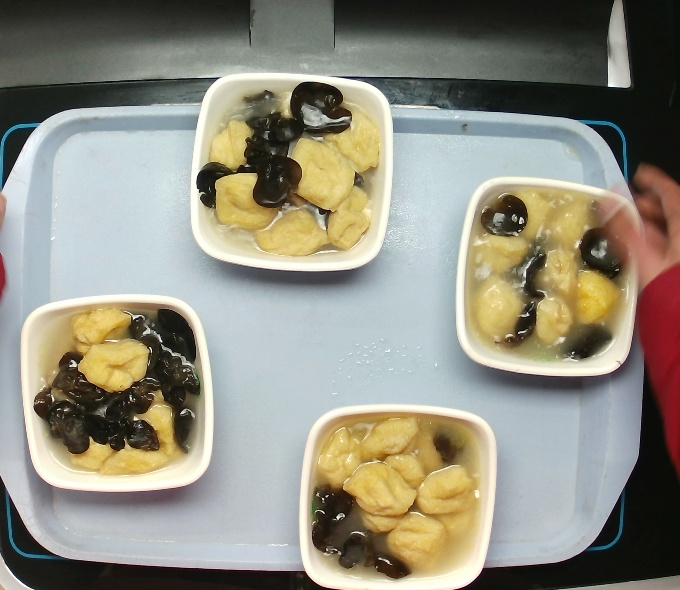wcq-MuErYouPaoTang: (295, 395, 494, 589), (459, 177, 645, 372), (204, 86, 393, 261), (21, 306, 207, 478)
